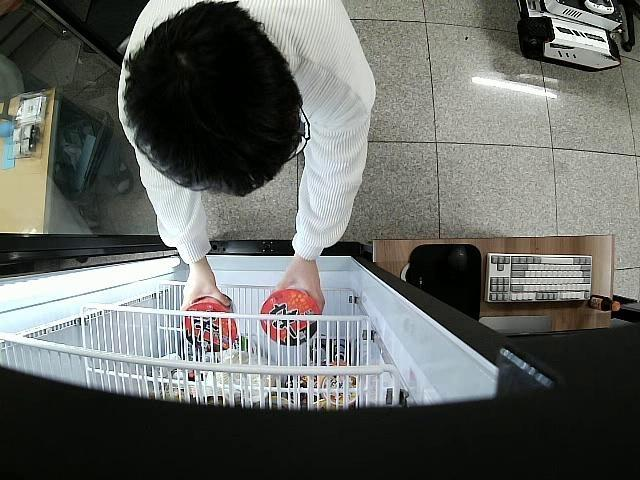01_ShinRamen_L: (260, 288, 319, 347), (185, 294, 238, 352)
